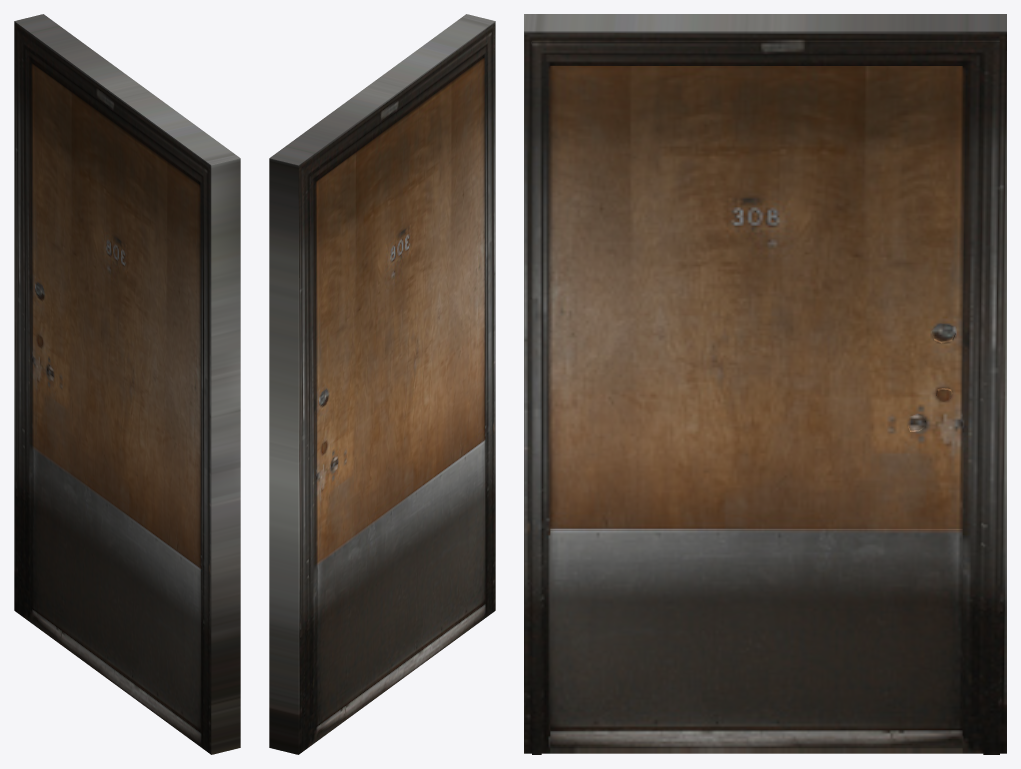
File: PUERTA_1_MADERA.fbx
3 views of the same model, side by side, from view 1: azimuth 30°, elevation 25°; view 2: azimuth 150°, elevation 25°; view 3: azimuth 270°, elevation 25° (orthographic). The views are drawn at different scales.
Parts seen in each view (by area): view 1: puerta 2; view 2: puerta 2; view 3: puerta 2.
Part boxes in pixels (left/top/right/bottom): puerta 2: left=14, top=14, right=240, bottom=754; puerta 2: left=269, top=14, right=495, bottom=754; puerta 2: left=524, top=14, right=1006, bottom=754.
Bounding box in the file's own units: 21.97 × 394 × 239.
